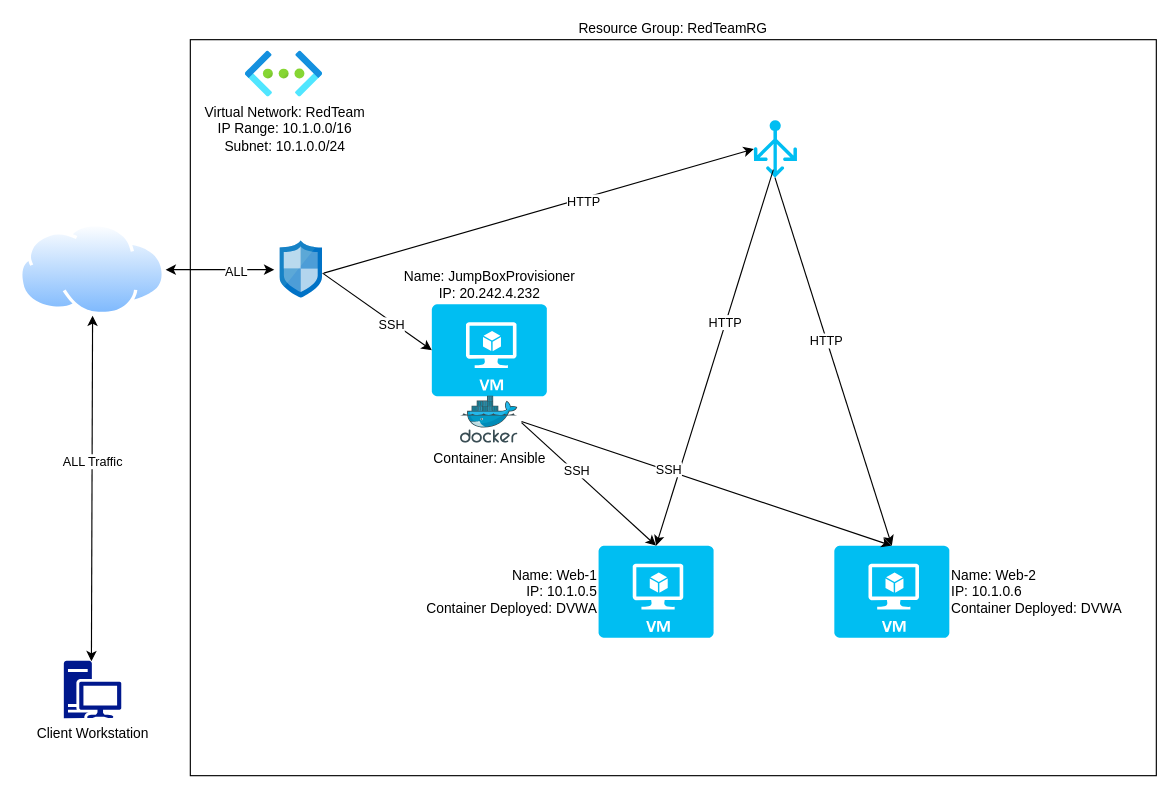
This 1176x796 diagram has some shape labels left out. The centre of each missing label's shape, as x and y in pixels:
"Internet" belongs at point (92, 269).
"Load Balancer IP: 20.88.112.97" belongs at point (774, 148).
"Security Group: RedTeamSG" belongs at point (300, 269).
